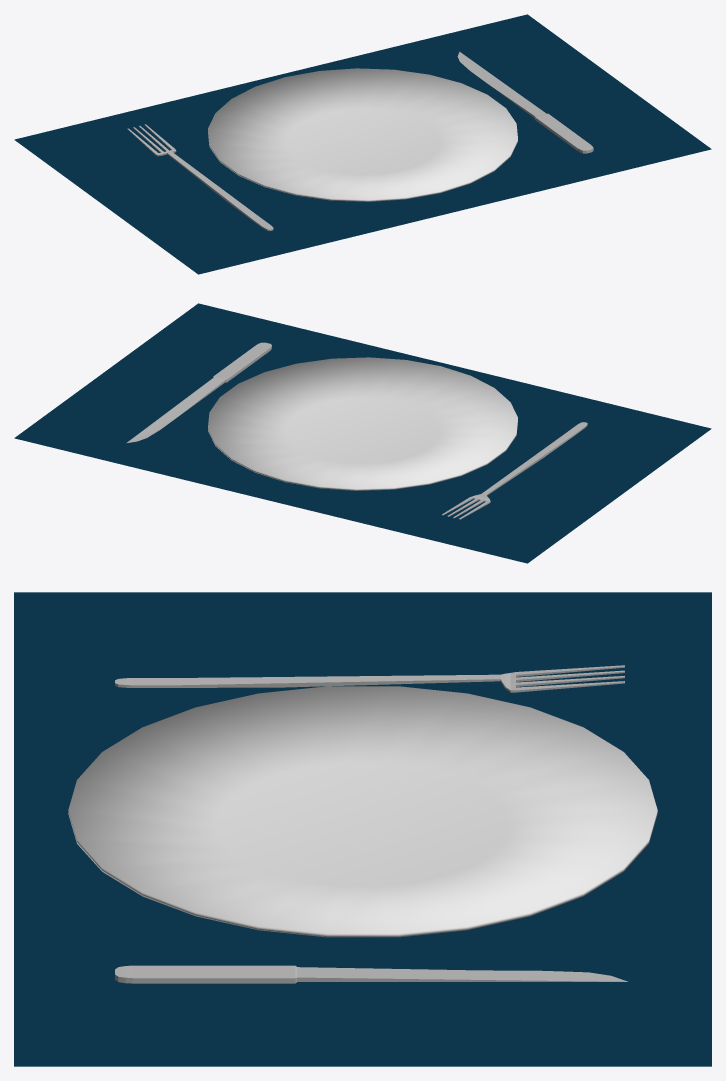
File: Placemat_01.fbx
3 views of the same model, one above another, from view 1: azimuth 30°, elevation 25°; view 2: azimuth 150°, elevation 25°; view 3: azimuth 270°, elevation 25° (orthographic). The views are drawn at different scales.
Parts seen in each view (by area): view 1: PlaceMat, PlaceMat_Plats, Placemat_Knife, Placemet_Fork; view 2: PlaceMat, PlaceMat_Plats, Placemat_Knife, Placemet_Fork; view 3: PlaceMat, PlaceMat_Plats, Placemat_Knife, Placemet_Fork.
Part boxes in pixels (x1,y1,x2,y2): PlaceMat: (14,14,711,274); PlaceMat_Plats: (208,68,517,201); Placemat_Knife: (457,51,593,153); Placemet_Fork: (127,124,273,230); PlaceMat: (14,303,711,563); PlaceMat_Plats: (208,357,517,490); Placemat_Knife: (126,342,271,443); Placemet_Fork: (442,422,587,519); PlaceMat: (14,592,711,1066); PlaceMat_Plats: (68,686,657,937); Placemat_Knife: (115,965,627,983); Placemet_Fork: (115,665,624,692).
Size of the model in its own units: 45.52 by 1 by 28.31.
